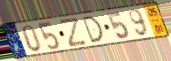0: (21, 24, 43, 53)
5: (36, 20, 62, 51), (106, 10, 131, 40)
9: (129, 9, 150, 38)
D: (81, 15, 106, 45)
Z: (58, 16, 89, 48)
